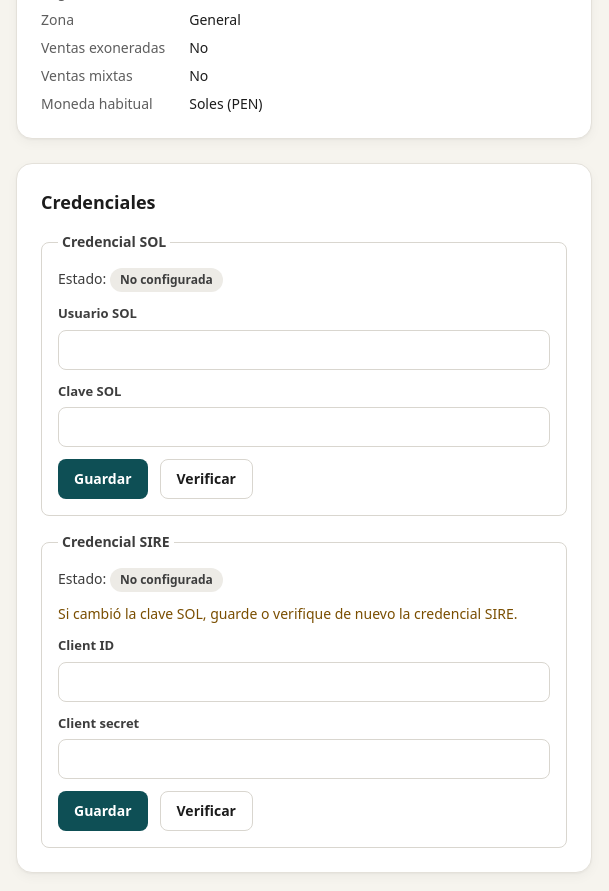
Test: /clientes/:id · credenciales (007b) › verificar (D6, CA-5) › 409 credencial_no_configurada → noConfigurada
(page scrolled)
Step 1. Click the button "Verificar" below "Client secret" → [206, 811], box left=160, top=791, right=253, bottom=831
(page scrolled)
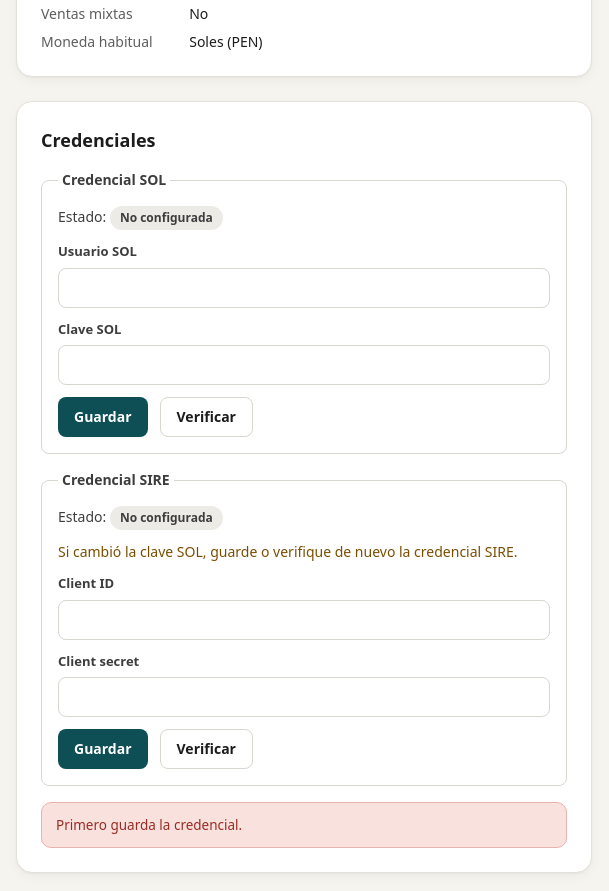
Now the message reads "Primero guarda la credencial.", box left=56, top=816, right=242, bottom=834
